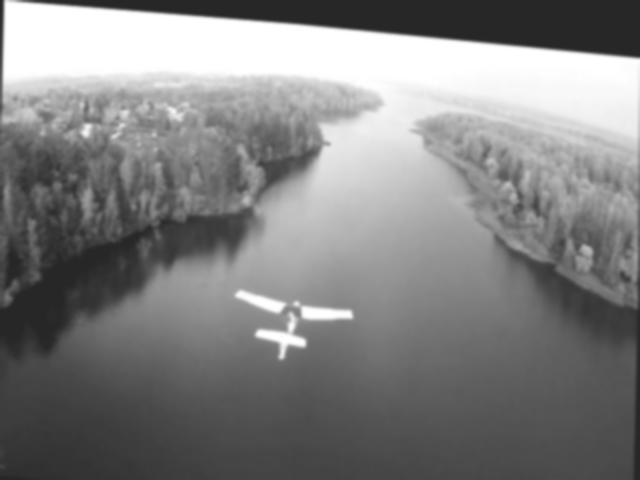hedef: (219, 266, 366, 374)
